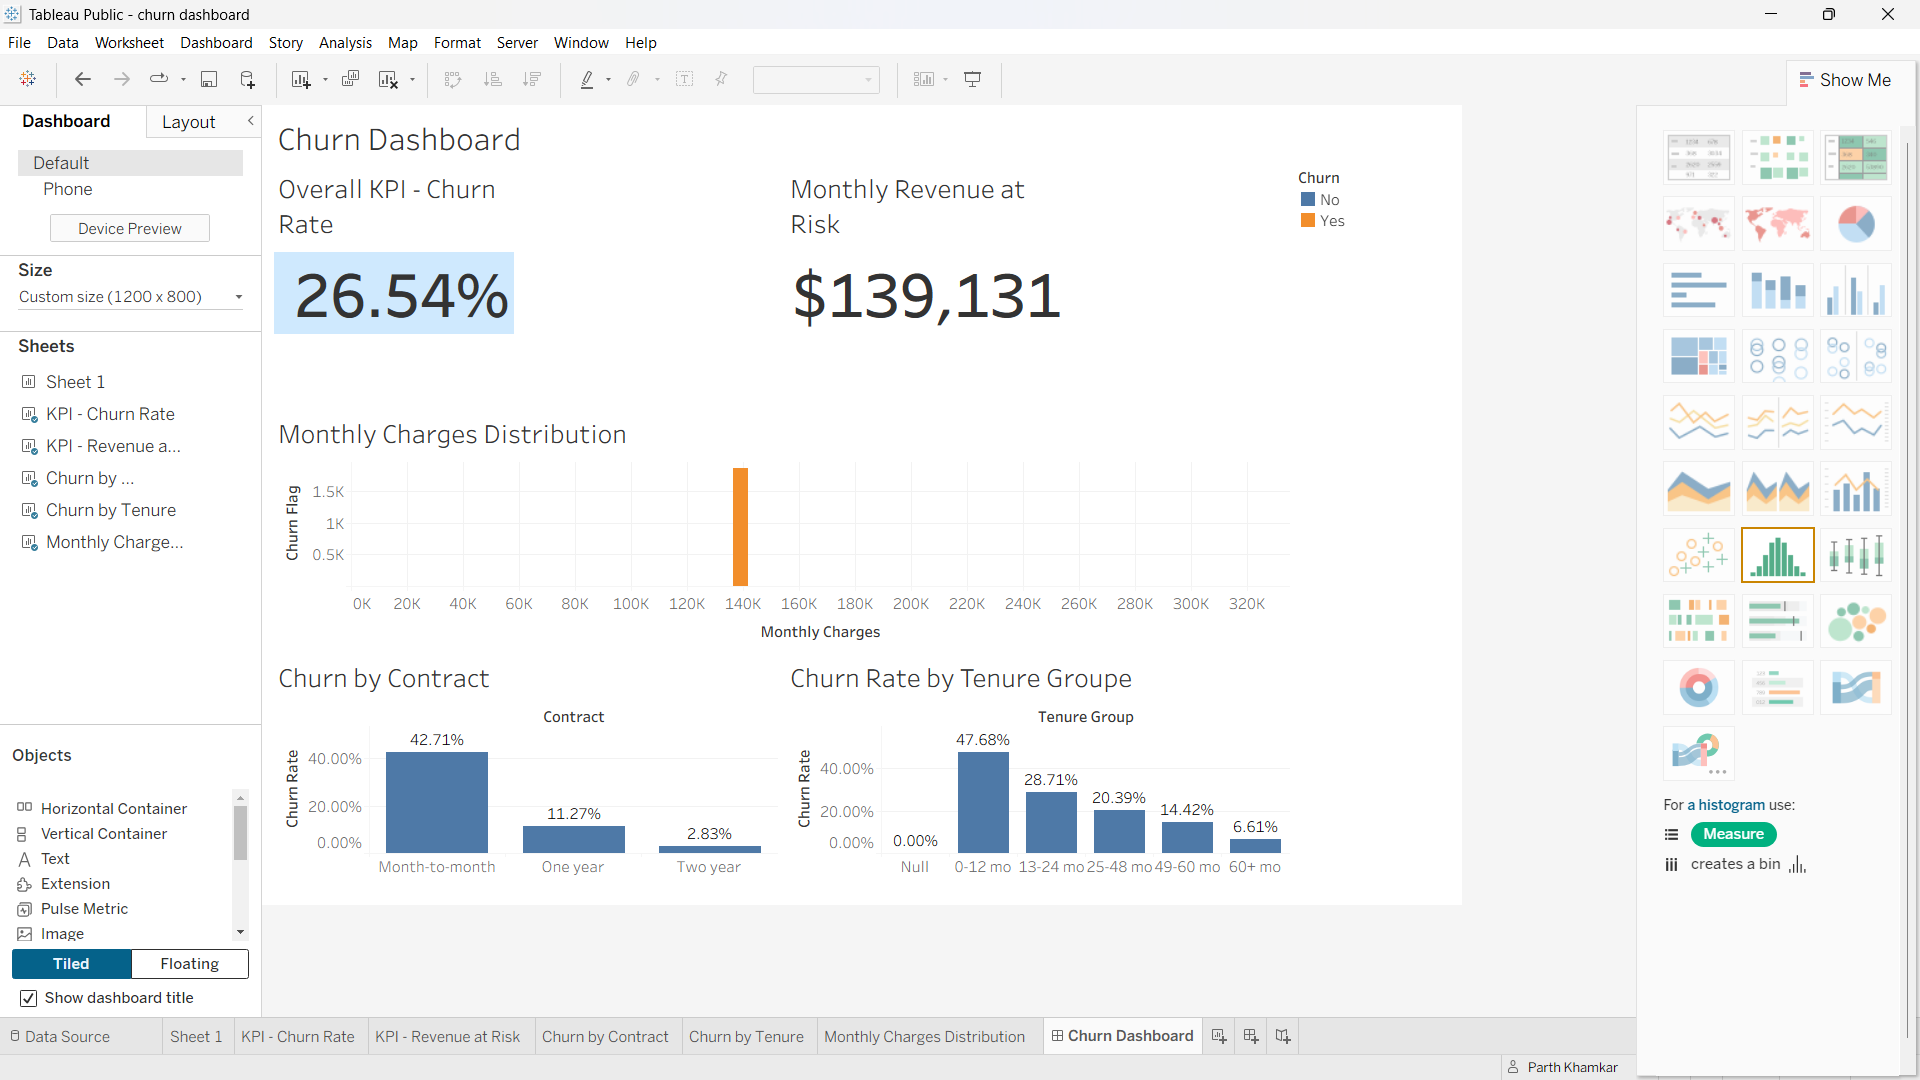

What the dashboard file says about the page in this screenshot:
{"tool":"tableau","page":{"name":"Churn Dashboard","canvas":[1200,800],"ordinal":0},"visuals":[{"type":"title","box":[8,8,1184,50]},{"type":"worksheet","title":"KPI - Churn Rate","mark":"Text","box":[8,58,512,244.7]},{"type":"worksheet","title":"KPI - Revenue at Risk","mark":"Automatic","box":[520,58,512,244.7]},{"type":"legend","title":"Monthly Charges Distribution","param":"[federated.1k9dasc0i9tlih155pe290etomj2].[none:Churn:nk]","box":[1032,58,160,72]},{"type":"worksheet","title":"Monthly Charges Distribution","mark":"Bar","rows":["ChurnFlag"],"cols":["MonthlyCharges"],"box":[8,302.7,1024,244.7]},{"type":"worksheet","title":"Churn by Contract","mark":"Automatic","rows":["Calculation_0433806985785344"],"cols":["Contract"],"box":[8,547.3,512,244.7]},{"type":"worksheet","title":"Churn by Tenure","mark":"Automatic","rows":["Calculation_0433806985785344"],"cols":["TenureGroup"],"box":[520,547.3,512,244.7]}]}

Visuals, with their boxes on the page's 1200x800 design canvas (x1, y1, x2, y2). These are canvas units, not pixel positions in the 1920x1080 screenshot, which may show the page scaled, cropped or inside an application window:
title: locate(8, 8, 1192, 58)
"KPI - Churn Rate" worksheet (Text marks): locate(8, 58, 520, 303)
"KPI - Revenue at Risk" worksheet: locate(520, 58, 1032, 303)
"Monthly Charges Distribution" legend: locate(1032, 58, 1192, 130)
"Monthly Charges Distribution" worksheet (Bar marks): locate(8, 303, 1032, 547)
"Churn by Contract" worksheet: locate(8, 547, 520, 792)
"Churn by Tenure" worksheet: locate(520, 547, 1032, 792)
